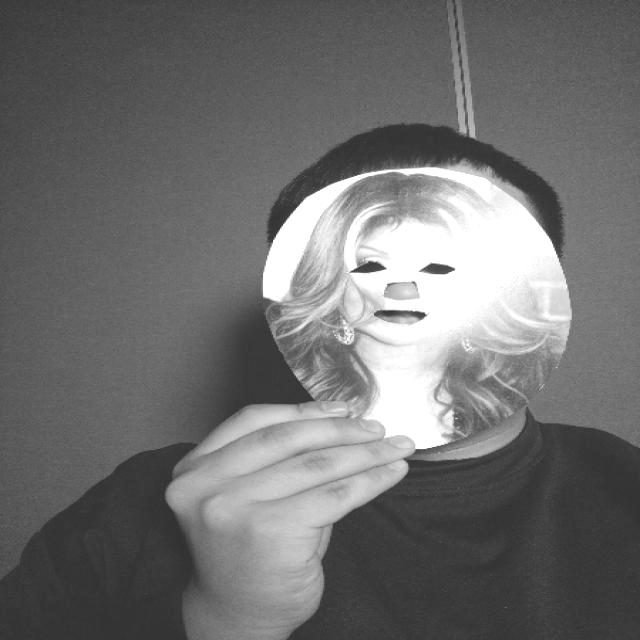fake: (258, 170, 574, 456)
